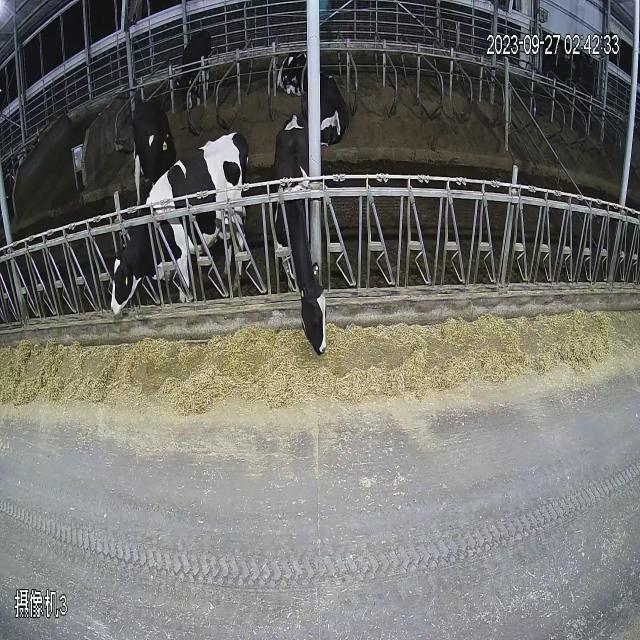feeding: (269, 110, 338, 368)
lying down: (268, 32, 352, 148)
standing: (97, 17, 260, 354), (87, 13, 254, 324)
